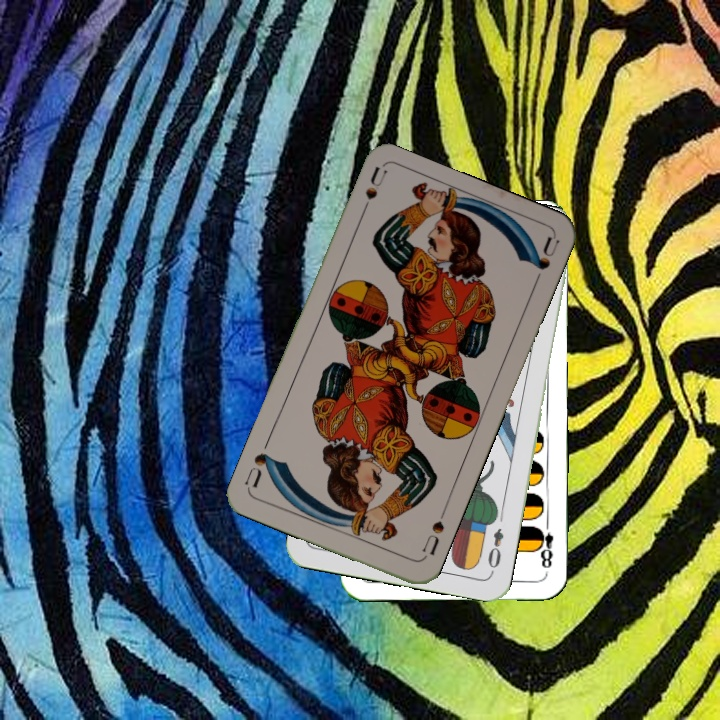E8: (533, 515, 556, 570)
EO: (484, 524, 507, 576)
SU: (355, 164, 390, 222), (418, 505, 449, 562)
